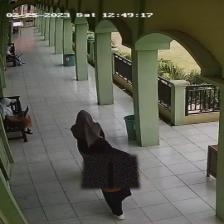Cadar_Niqab: (80, 136, 139, 188)
